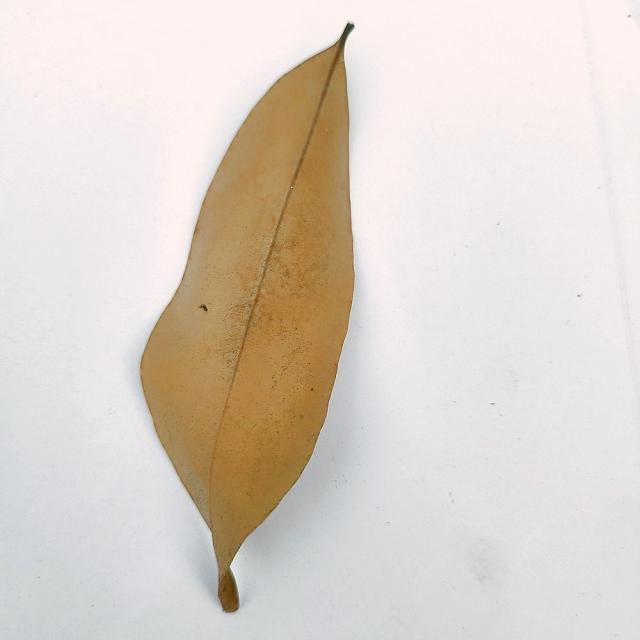Dry_Leaf-Lychee: (139, 27, 356, 616)
